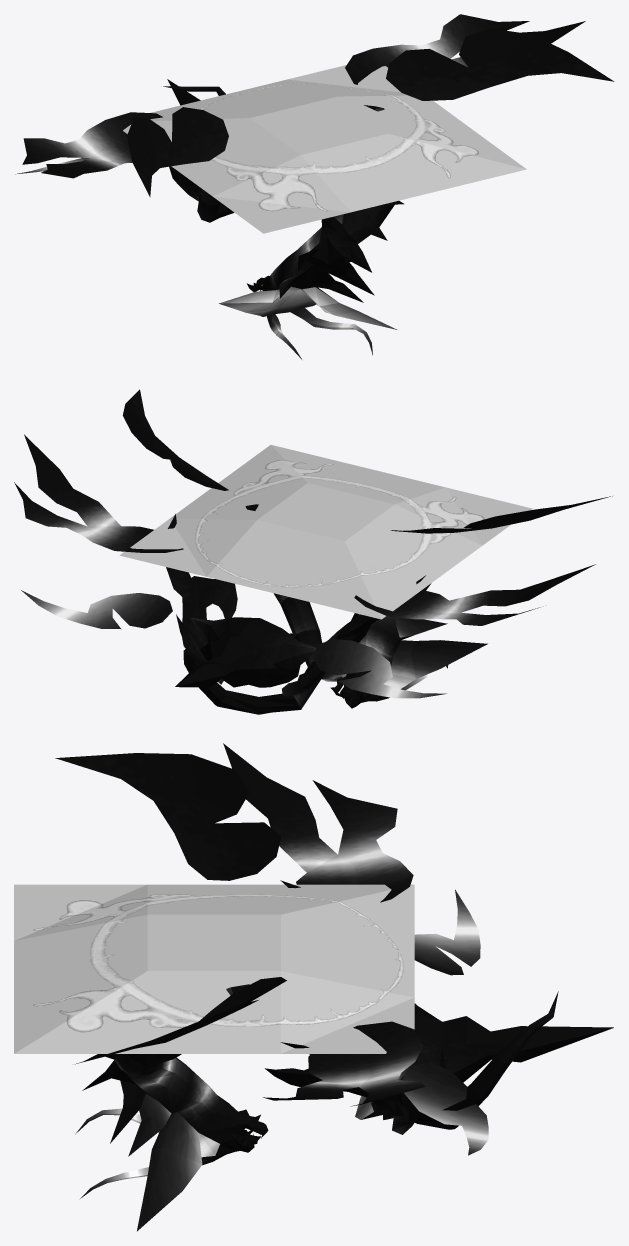
Rendered from chunjiechibang.obj.
3 renders of one model, top to bottom at view 1: azimuth 30°, elevation 25°; view 2: azimuth 150°, elevation 25°; view 3: azimuth 270°, elevation 25°, orthographic. The views are drawn at different scales.
Visible parts, largest first — view 1: chunjiechibang, DDfazhen02, EEfazhen01; view 2: chunjiechibang, DDfazhen02, EEfazhen01; view 3: chunjiechibang, DDfazhen02, EEfazhen01.
Boxes of the visible parts, bbox=[...] form: chunjiechibang: bbox=[15, 14, 614, 359]; DDfazhen02: bbox=[123, 65, 526, 233]; EEfazhen01: bbox=[199, 82, 478, 211]; chunjiechibang: bbox=[14, 389, 612, 714]; DDfazhen02: bbox=[119, 445, 532, 619]; EEfazhen01: bbox=[195, 460, 484, 587]; chunjiechibang: bbox=[55, 743, 613, 1231]; DDfazhen02: bbox=[14, 884, 414, 1053]; EEfazhen01: bbox=[33, 894, 403, 1032].
Size of the model in its own units: 173 by 71 by 122.
